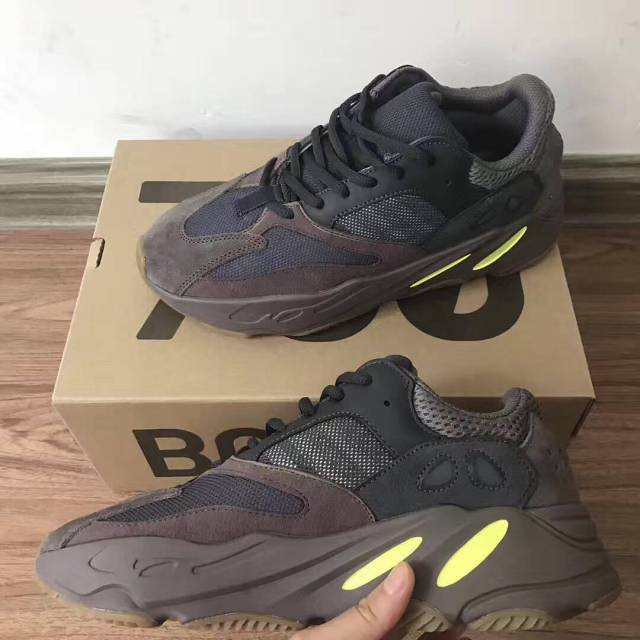adidas Yeezy 700 Mauve: (17, 353, 629, 640), (129, 63, 573, 344)
